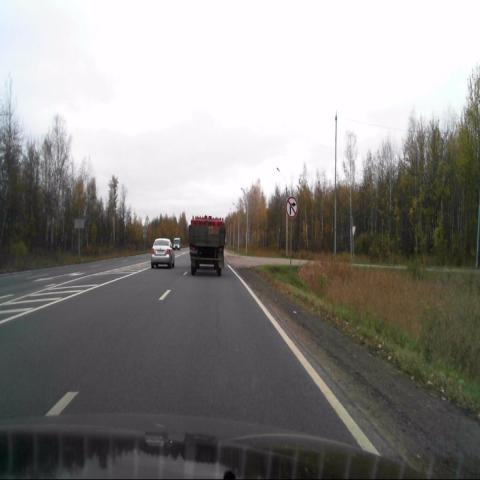3_18: (286, 196, 298, 218)
